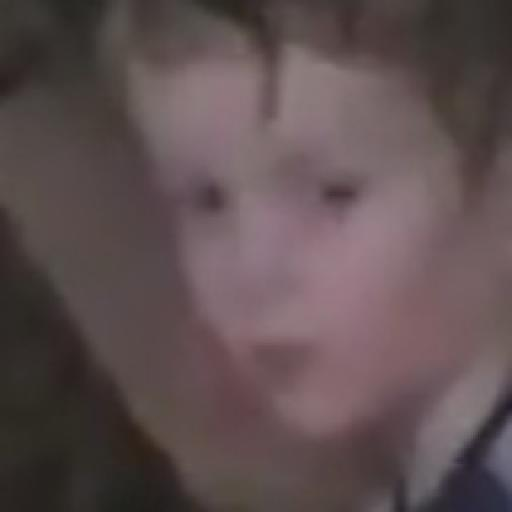Autism: (52, 1, 512, 488)
